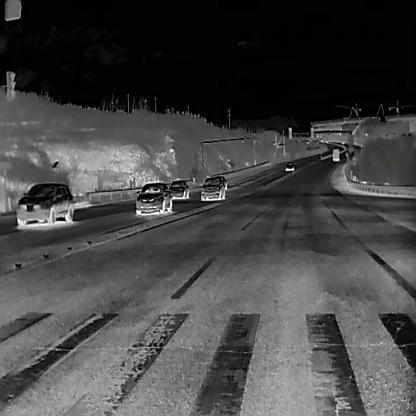car: (15, 181, 73, 227), (135, 181, 172, 215), (199, 175, 225, 200), (167, 179, 189, 199), (214, 175, 227, 189), (284, 161, 294, 171), (324, 138, 328, 142), (319, 138, 323, 142)
truck: (332, 147, 340, 161), (340, 139, 344, 145)
